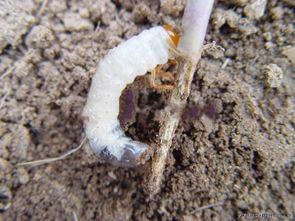grub: (80, 21, 182, 168)
